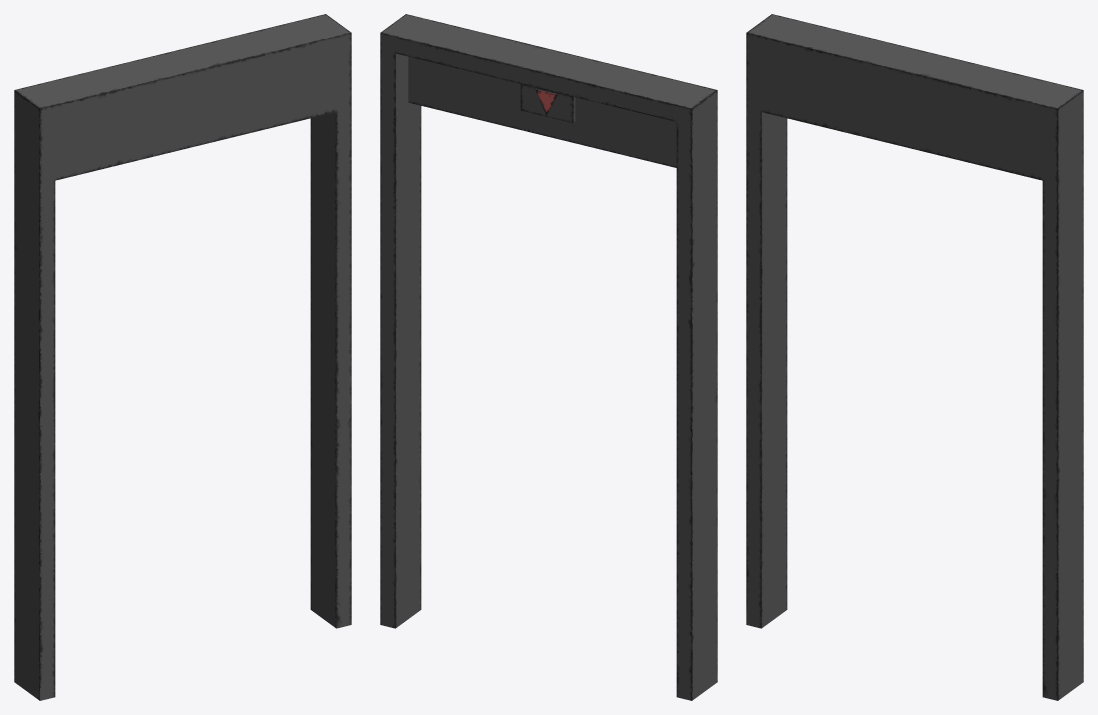
Rendered from SM_Elevator_.fbx.
The picture shows the model from 3 angles, left to right: view 1: azimuth 30°, elevation 25°; view 2: azimuth 150°, elevation 25°; view 3: azimuth 330°, elevation 25°; orthographic projection.
Parts seen in each view (by area): view 1: SM_Floor_SideWall.011; view 2: SM_Floor_SideWall.011; view 3: SM_Floor_SideWall.011.
Part boxes in pixels (left/top/right/bottom): SM_Floor_SideWall.011: left=14, top=14, right=351, bottom=700; SM_Floor_SideWall.011: left=380, top=14, right=717, bottom=700; SM_Floor_SideWall.011: left=746, top=14, right=1083, bottom=700.
Size of the model in its own units: 154 by 280 by 22.12.
